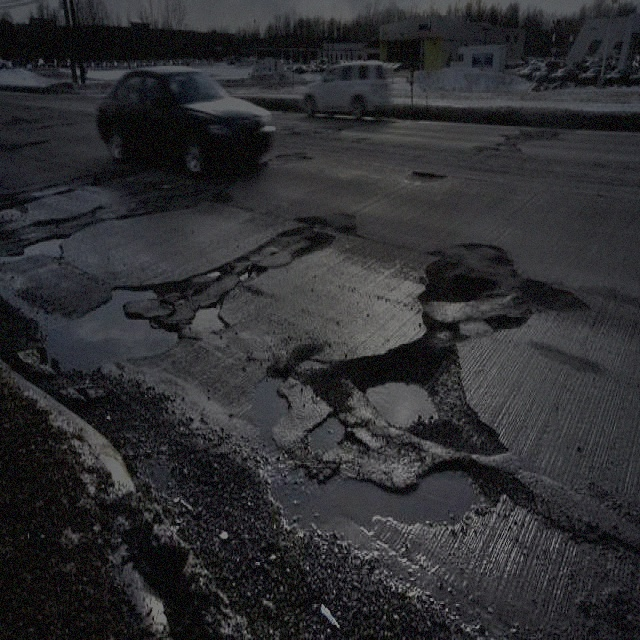pothole: (322, 334, 506, 458), (31, 286, 180, 372), (391, 462, 499, 530), (244, 350, 296, 445), (418, 257, 500, 308), (301, 392, 353, 463), (279, 209, 335, 257), (184, 288, 234, 334), (405, 164, 449, 186)
